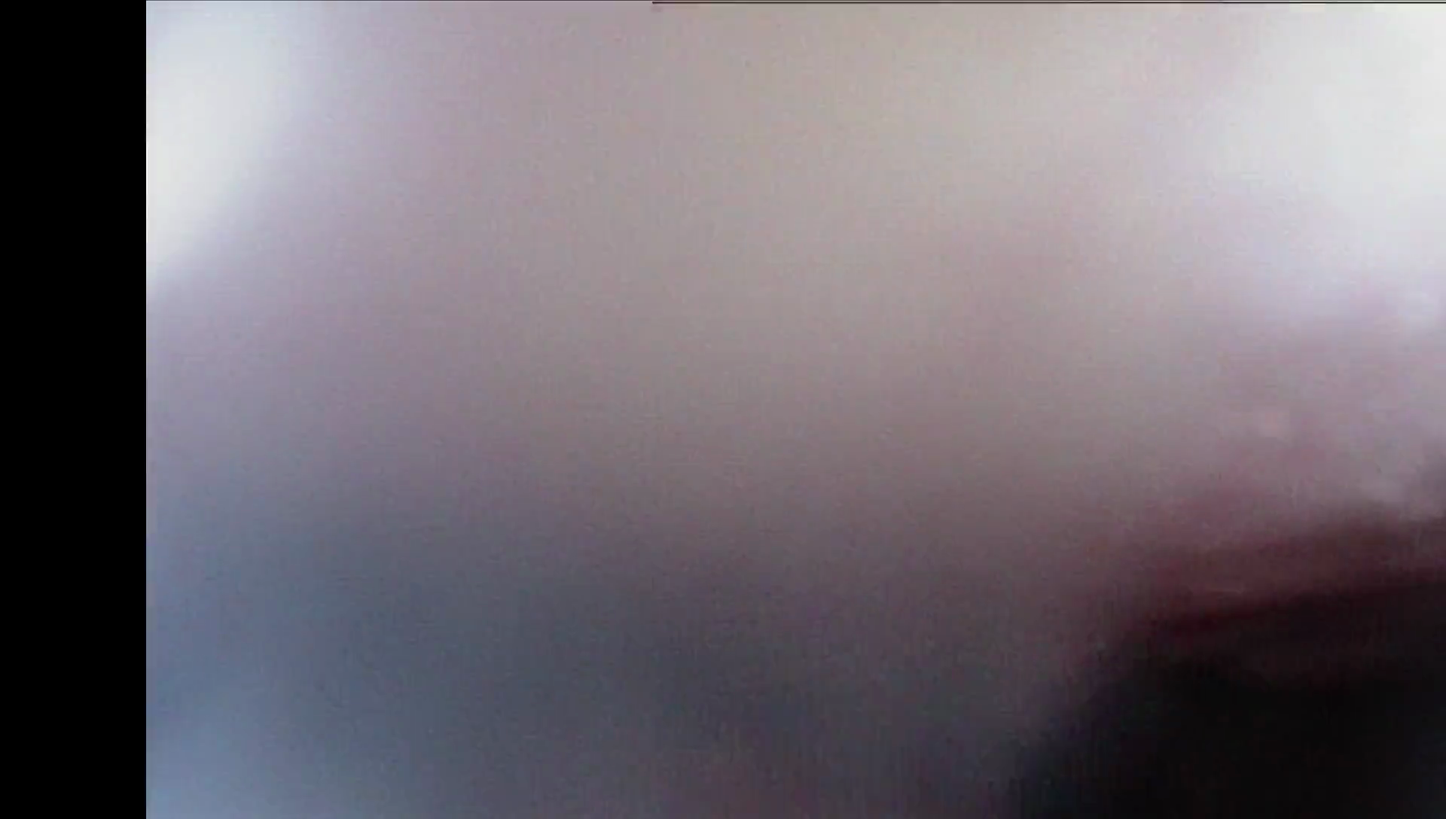close_wall: (157, 0, 1446, 431)
next: (964, 531, 1446, 819)
